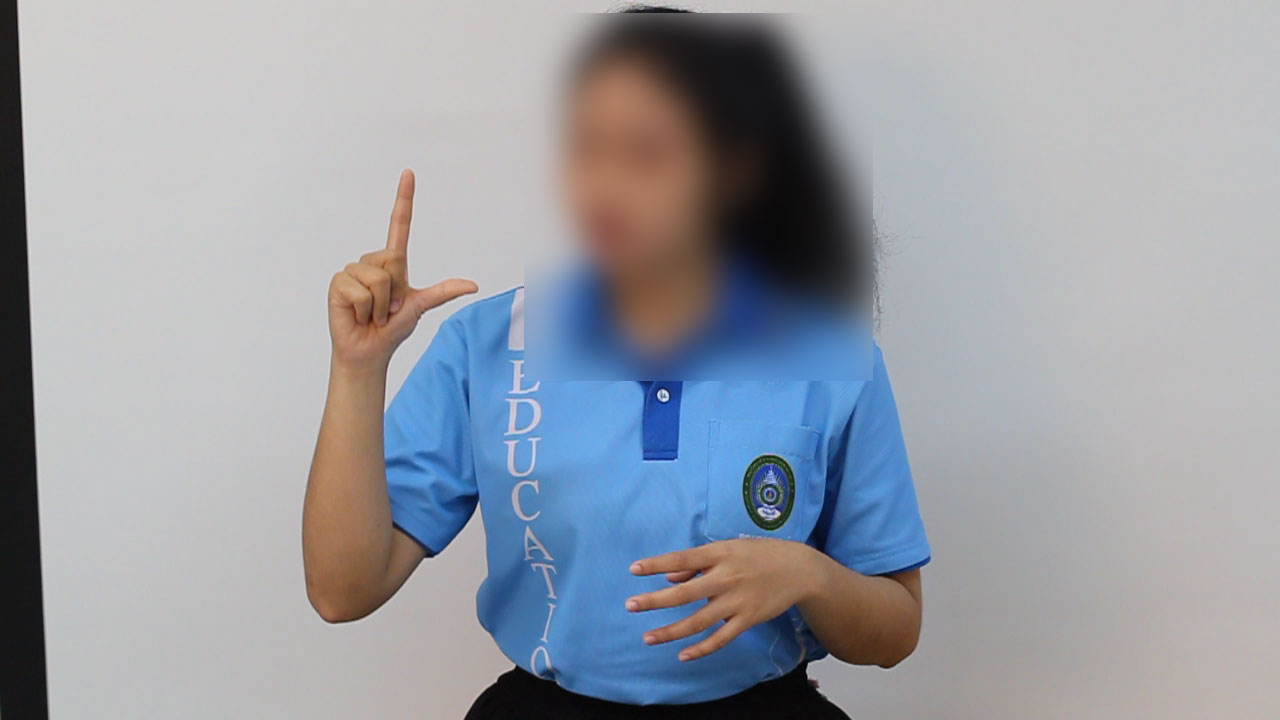lor: (332, 142, 490, 382)
